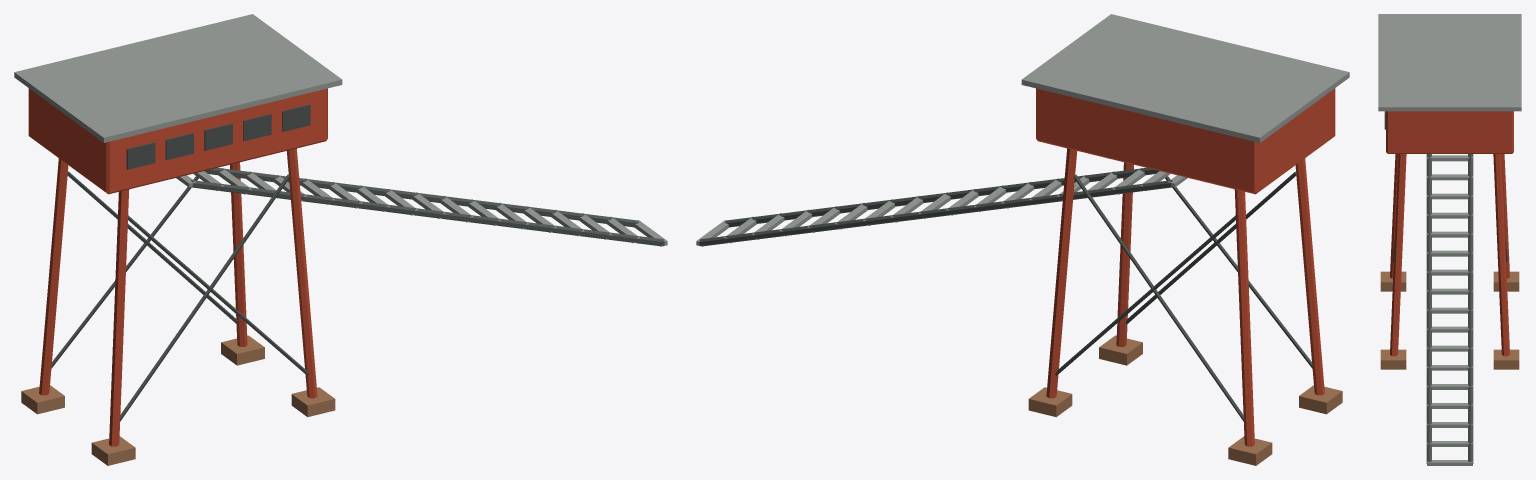
Rendered from quarry-gantry.glb.
The picture shows the model from 3 angles, left to right: view 1: azimuth 30°, elevation 25°; view 2: azimuth 150°, elevation 25°; view 3: azimuth 270°, elevation 25°; orthographic projection. The views are drawn at different scales.
Visible parts, largest first — view 1: Headhouse roof, Quarry headhouse, Conveyor frame, Gantry leg, Gantry leg.002, Gantry leg.001, Conveyor frame.001, Gantry leg.003, Cross brace, Cross brace.002, Cross brace.003, Cross brace.001 (+4 smaller); view 2: Headhouse roof, Quarry headhouse, Conveyor frame.001, Gantry leg.001, Gantry leg.003, Gantry leg, Conveyor frame, Gantry leg.002, Cross brace.001, Cross brace.003, Cross brace.002, Cross brace (+4 smaller); view 3: Headhouse roof, Quarry headhouse, Conveyor frame, Conveyor frame.001, Gantry leg.002, Gantry leg.003, Footing.002, Footing.003, Gantry leg, Gantry leg.001, Footing, Footing.001 (+17 smaller).
Part boxes in pixels (<box>): Headhouse roof: <box>14,14,342,142</box>; Quarry headhouse: <box>28,88,327,194</box>; Conveyor frame: <box>191,180,664,245</box>; Gantry leg: <box>109,189,129,446</box>; Gantry leg.002: <box>286,148,317,398</box>; Gantry leg.001: <box>39,158,68,395</box>; Conveyor frame.001: <box>204,167,638,227</box>; Gantry leg.003: <box>230,162,247,346</box>; Cross brace: <box>119,174,289,421</box>; Cross brace.002: <box>128,215,308,375</box>; Cross brace.003: <box>67,171,237,324</box>; Cross brace.001: <box>51,176,198,368</box>; Headhouse roof: <box>1021,14,1349,142</box>; Quarry headhouse: <box>1036,88,1335,194</box>; Conveyor frame.001: <box>699,180,1172,245</box>; Gantry leg.001: <box>1234,189,1254,446</box>; Gantry leg.003: <box>1046,148,1077,398</box>; Gantry leg: <box>1295,158,1324,395</box>; Conveyor frame: <box>725,167,1159,227</box>; Gantry leg.002: <box>1116,162,1133,346</box>; Cross brace.001: <box>1074,174,1244,421</box>; Cross brace.003: <box>1055,215,1235,375</box>; Cross brace.002: <box>1126,171,1296,324</box>; Cross brace: <box>1165,176,1312,368</box>; Headhouse roof: <box>1378,14,1521,111</box>; Quarry headhouse: <box>1386,111,1513,153</box>; Conveyor frame: <box>1426,154,1431,463</box>; Conveyor frame.001: <box>1468,154,1473,463</box>; Gantry leg.002: <box>1390,154,1406,356</box>; Gantry leg.003: <box>1493,154,1509,356</box>; Footing.002: <box>1380,349,1406,369</box>; Footing.003: <box>1493,349,1519,369</box>; Gantry leg: <box>1390,154,1398,278</box>; Gantry leg.001: <box>1501,154,1509,278</box>; Footing: <box>1380,271,1406,291</box>; Footing.001: <box>1493,271,1519,291</box>.
Bounding box in the file's own units: 21.43 × 11.4 × 5.6.
